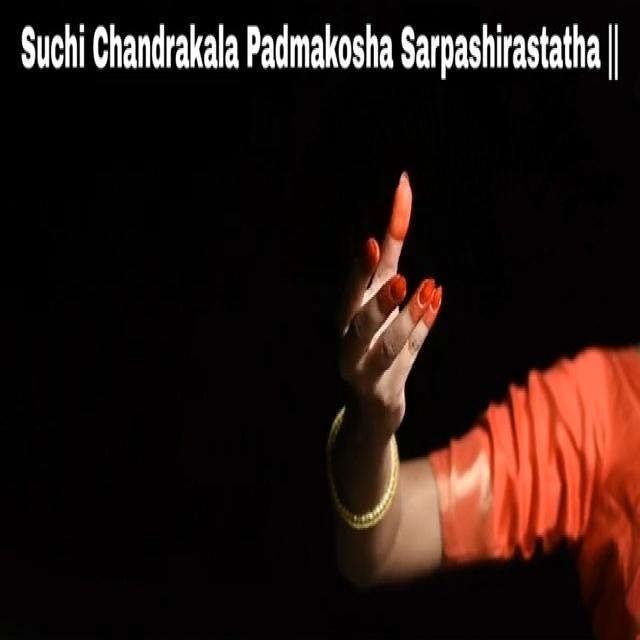Padmakosha: (328, 153, 457, 437)
bangle: (321, 432, 406, 541)
text: (10, 16, 627, 94)
